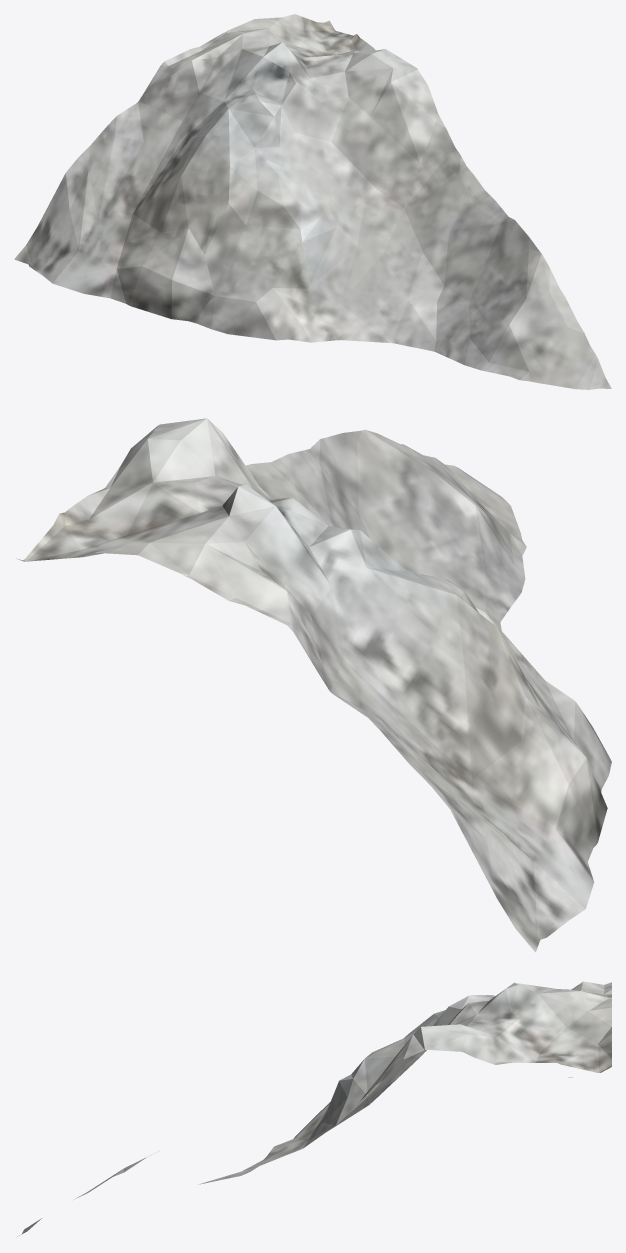
3 renders of one model, top to bottom at view 1: azimuth 30°, elevation 25°; view 2: azimuth 150°, elevation 25°; view 3: azimuth 270°, elevation 25°, orthographic. The views are drawn at different scales.
Size of the model in its own units: 1.31 by 0.771 by 2.02.
1 material, 1 textured.
